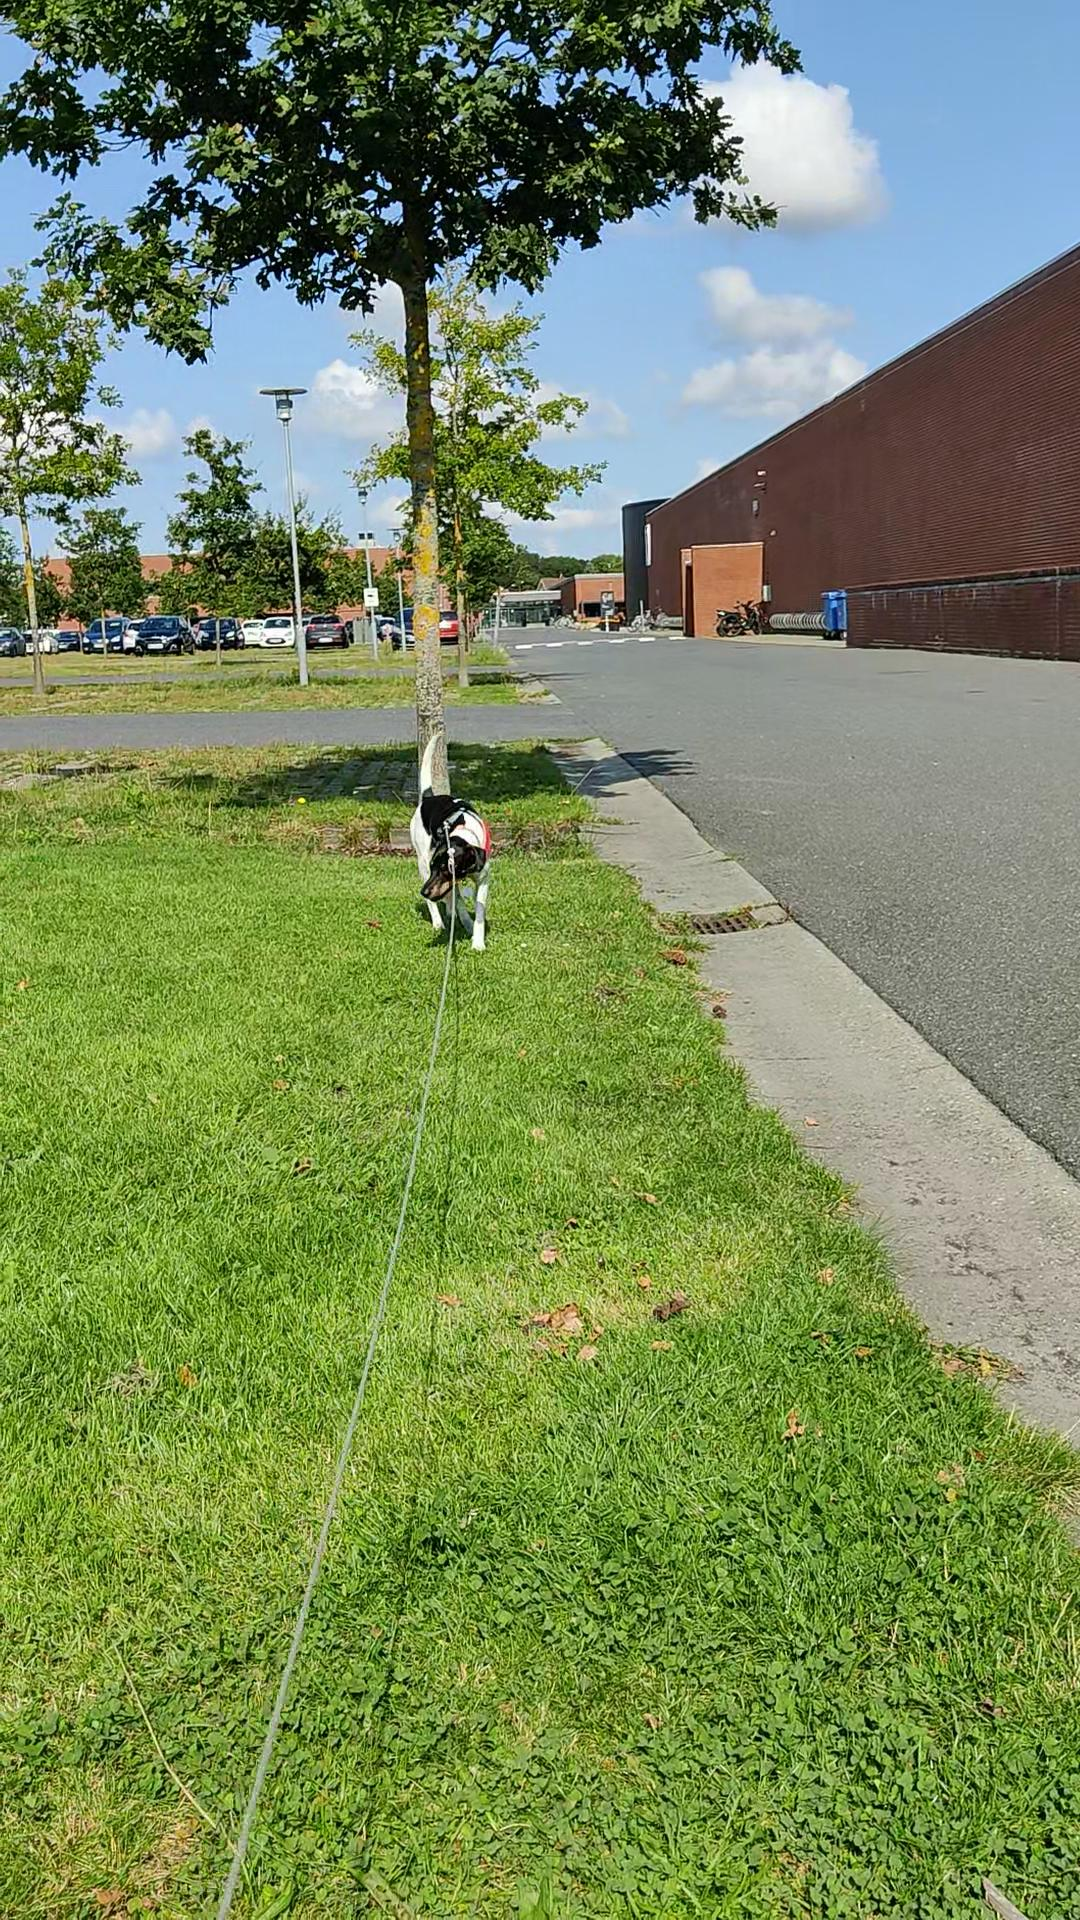Dog: (407, 728, 497, 951)
